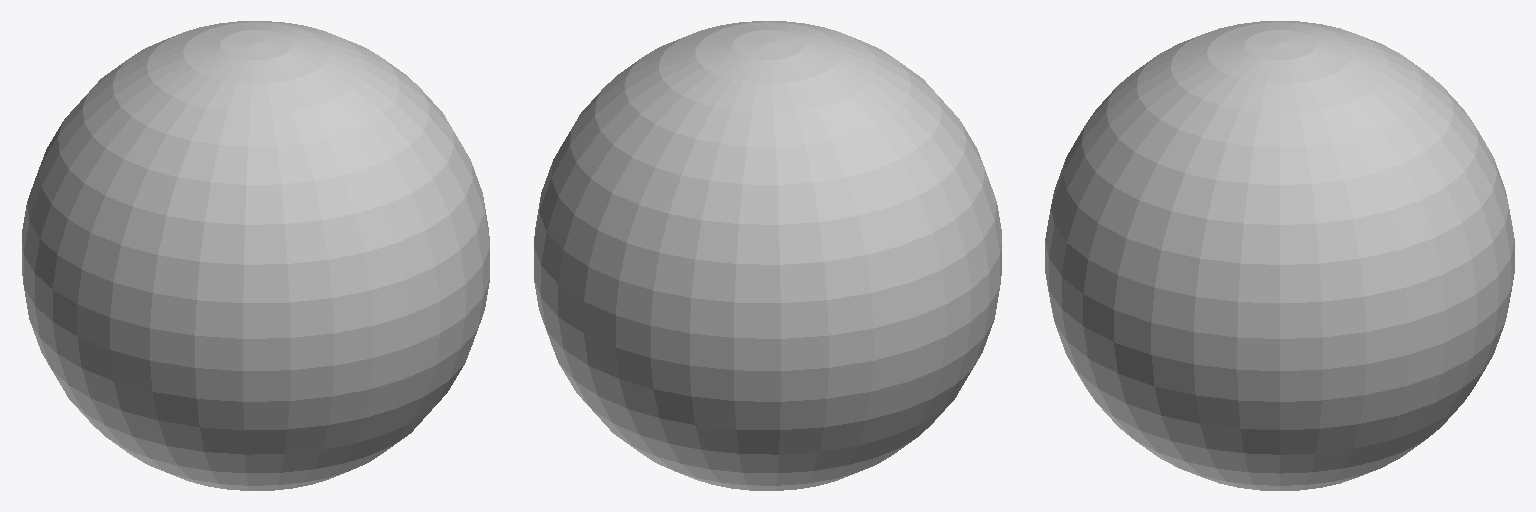
Rendered from ball.obj.
The picture shows the model from 3 angles: view 1: azimuth 30°, elevation 25°; view 2: azimuth 150°, elevation 25°; view 3: azimuth 270°, elevation 25°; orthographic projection.
Parts seen in each view (by area): view 1: SurfSphere; view 2: SurfSphere; view 3: SurfSphere.
Boxes of the visible parts, <box> form: SurfSphere: <box>22,21,489,490</box>; SurfSphere: <box>534,21,1001,490</box>; SurfSphere: <box>1045,21,1514,490</box>.
Bounding box in the file's own units: 12614 × 12650 × 12614.